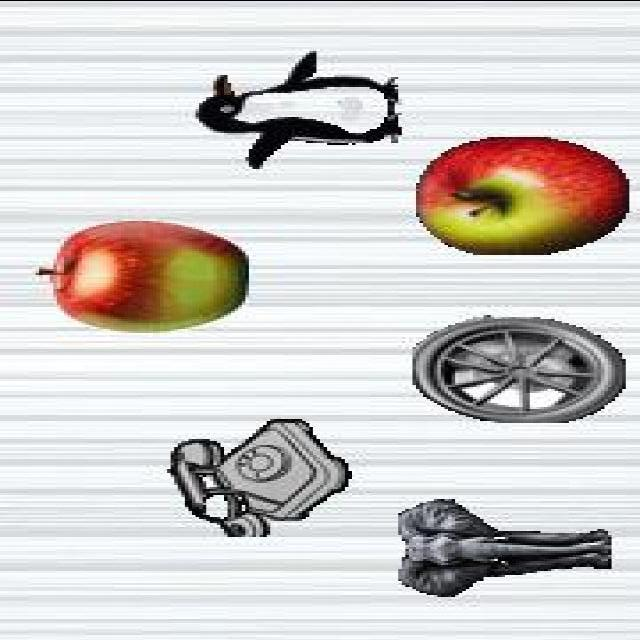Other Objects: (416, 136, 629, 255), (36, 219, 250, 333), (166, 418, 352, 538)
